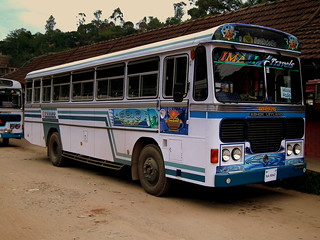bus: (22, 23, 307, 198), (1, 78, 23, 145)
